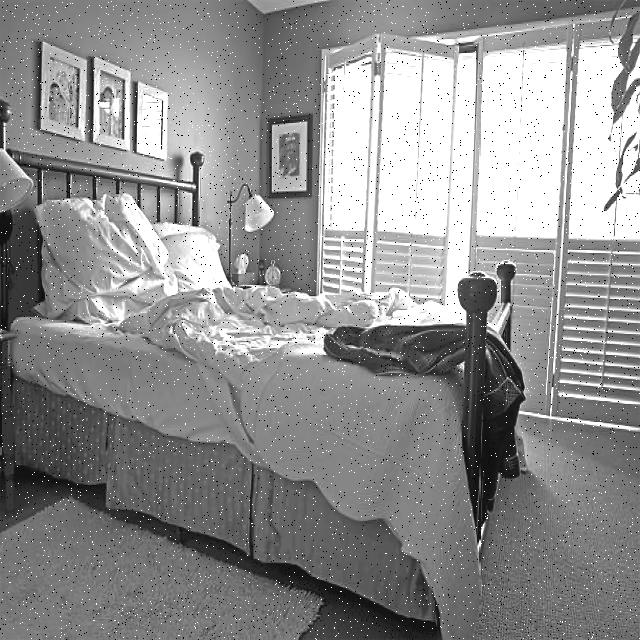bed: (11, 190, 482, 640)
